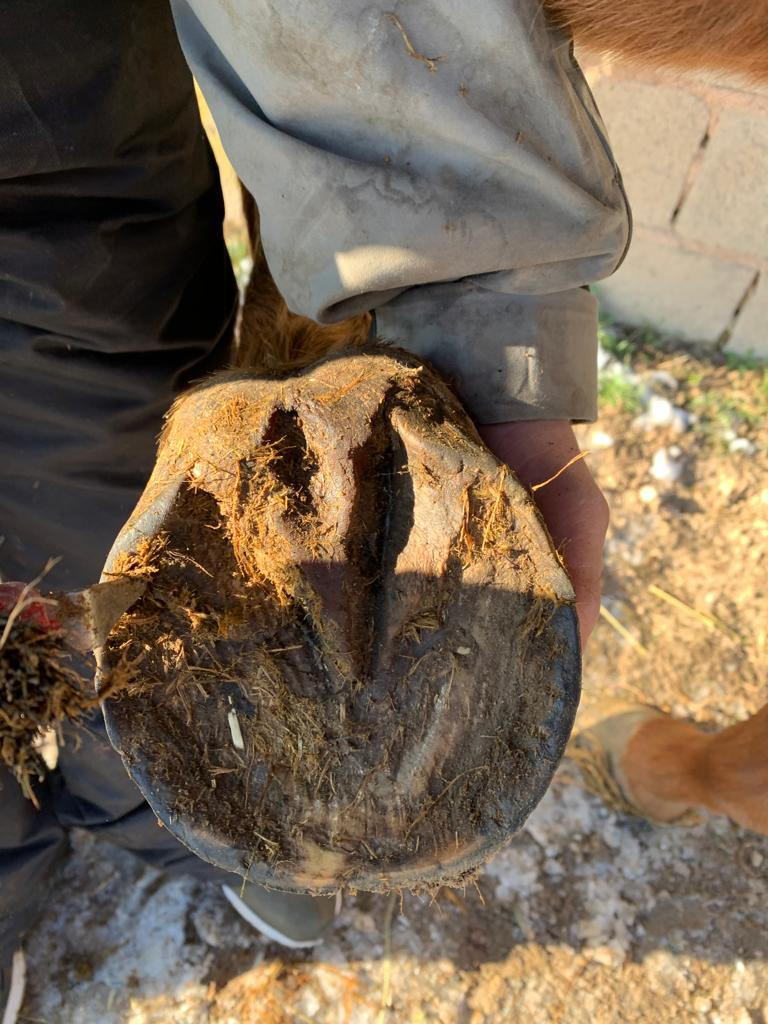horsesole: (92, 393, 581, 892)
